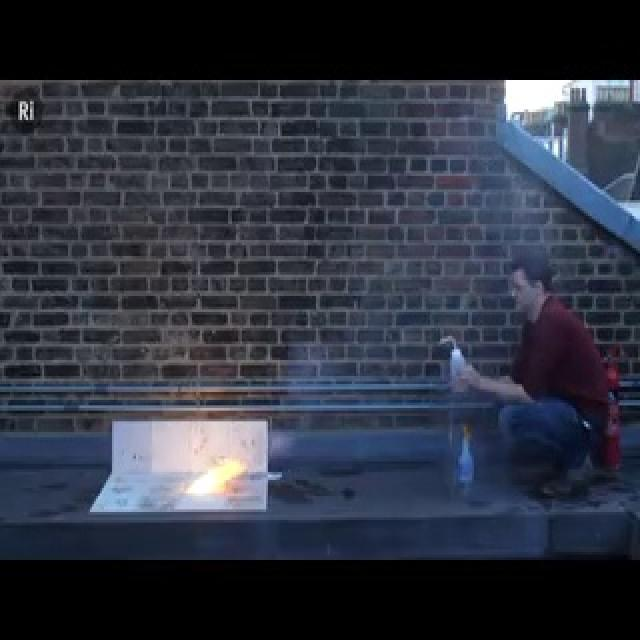fire: (179, 432, 233, 504)
